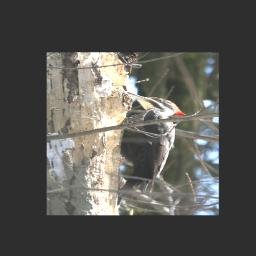Woodpecker: (119, 92, 188, 209)
